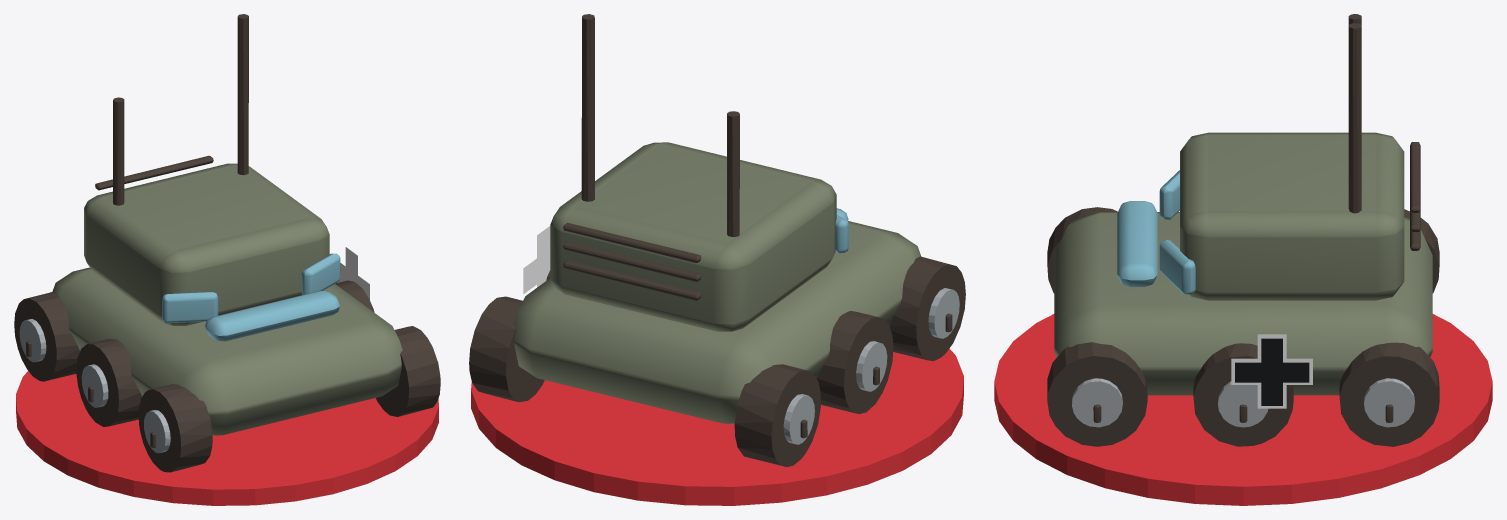
Rendered from germany_headquarters_lod0.glb.
The picture shows the model from 3 angles, left to right: view 1: azimuth 30°, elevation 25°; view 2: azimuth 150°, elevation 25°; view 3: azimuth 270°, elevation 25°; orthographic projection. The views are drawn at different scales.
Parts seen in each view (by area): view 1: body_hull, base_pedestal; view 2: body_hull, base_pedestal; view 3: body_hull, base_pedestal.
Part boxes in pixels (left/top/right/bottom): body_hull: left=14, top=14, right=440, bottom=472; base_pedestal: left=16, top=371, right=438, bottom=505; body_hull: left=469, top=14, right=965, bottom=466; base_pedestal: left=471, top=348, right=963, bottom=505; body_hull: left=1047, top=14, right=1439, bottom=446; base_pedestal: left=994, top=314, right=1492, bottom=505.
Size of the model in its own units: 0.78 by 0.7101 by 0.78.
